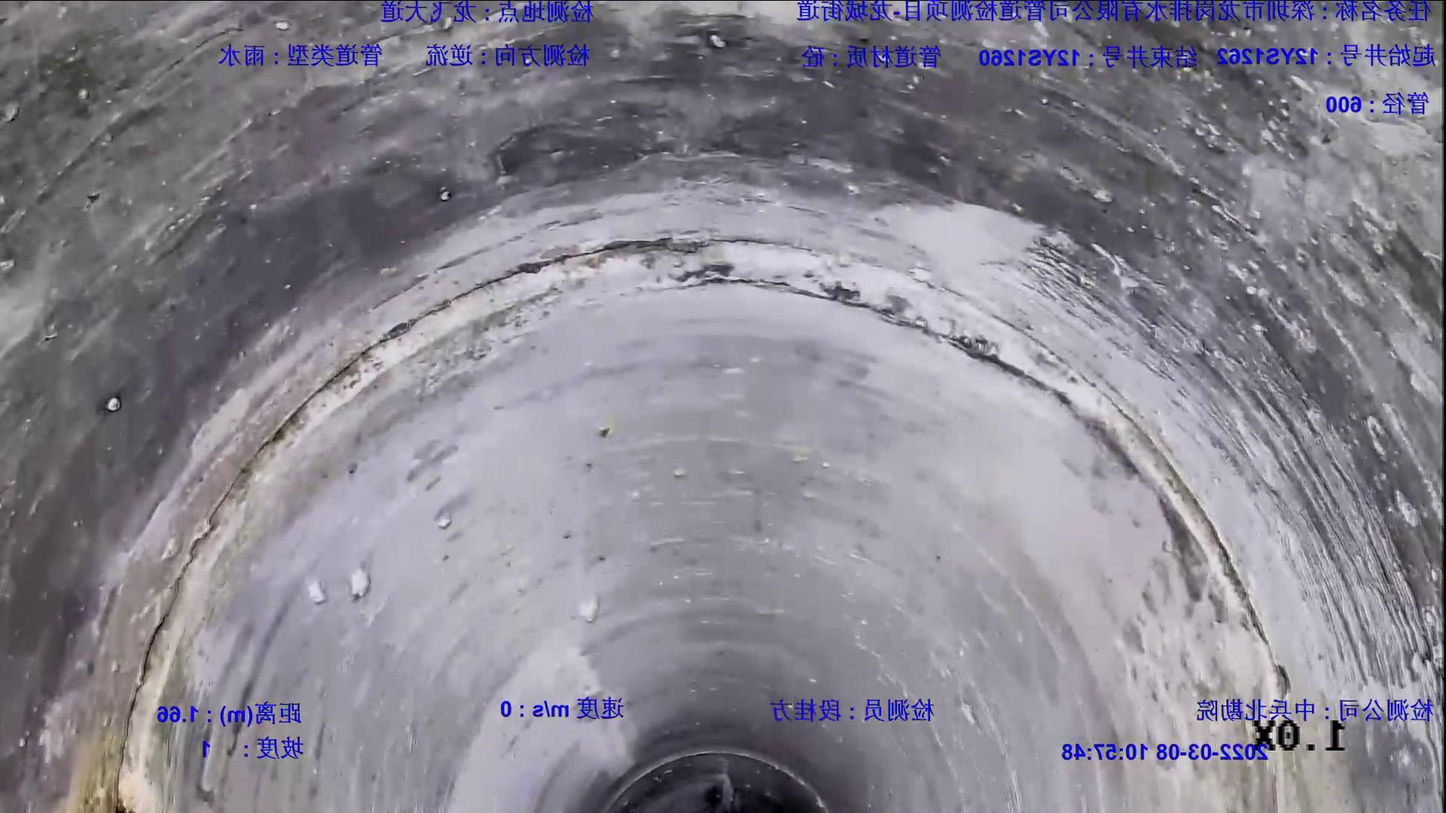CKTJ: (117, 234, 1253, 812)
